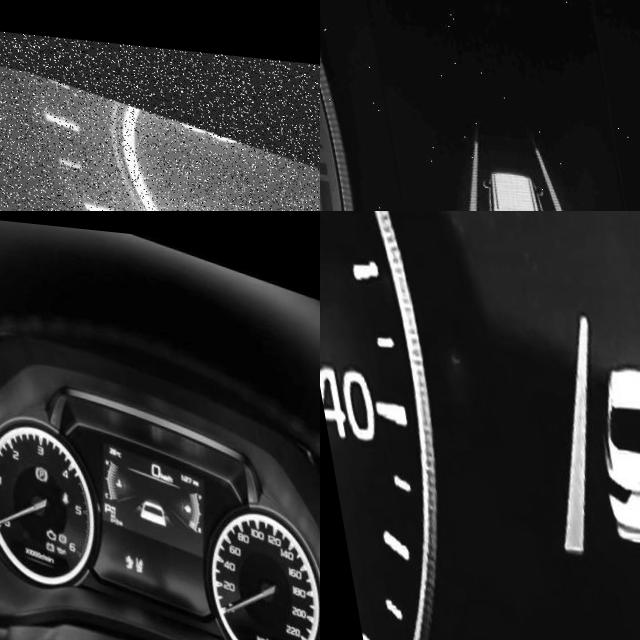Seat Belt: (50, 486, 60, 501)
